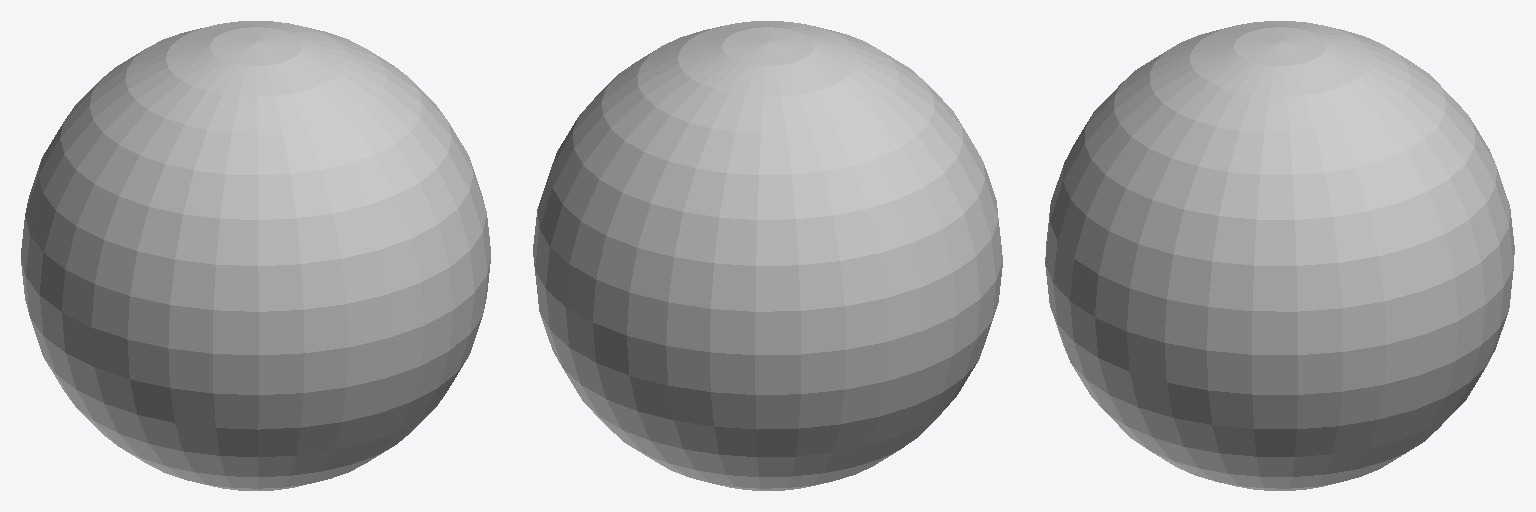
File: mesh_legjoint_r2.obj
The picture shows the model from 3 angles: view 1: azimuth 30°, elevation 25°; view 2: azimuth 150°, elevation 25°; view 3: azimuth 270°, elevation 25°; orthographic projection.
Parts seen in each view (by area): view 1: Sphere.003_Sphere.004; view 2: Sphere.003_Sphere.004; view 3: Sphere.003_Sphere.004.
Boxes of the visible parts, x1,y1,x2,y2 form: Sphere.003_Sphere.004: [21, 21, 490, 490]; Sphere.003_Sphere.004: [533, 21, 1002, 490]; Sphere.003_Sphere.004: [1045, 21, 1514, 490].
Bounding box in the file's own units: 0.2991 × 0.3 × 0.2991.